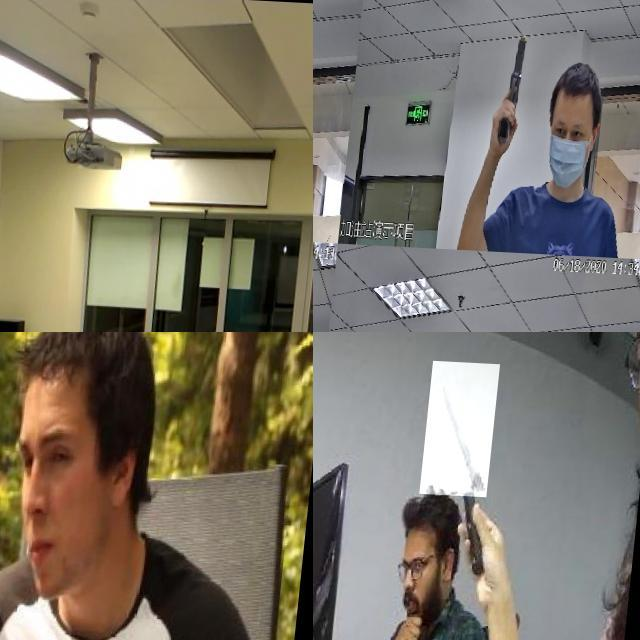-: (425, 356, 503, 492)
gun-knife-thesis - v11 Yolov5 augmented: (501, 27, 534, 135), (313, 23, 334, 146)
